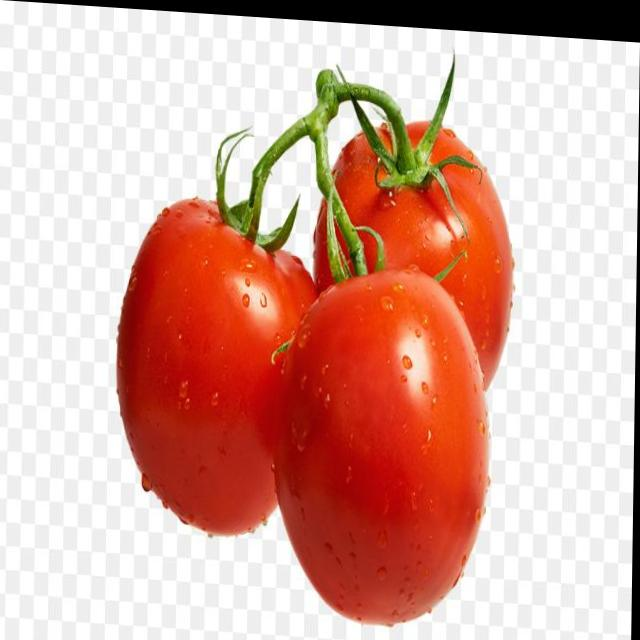kirmizi: (81, 39, 552, 627)
